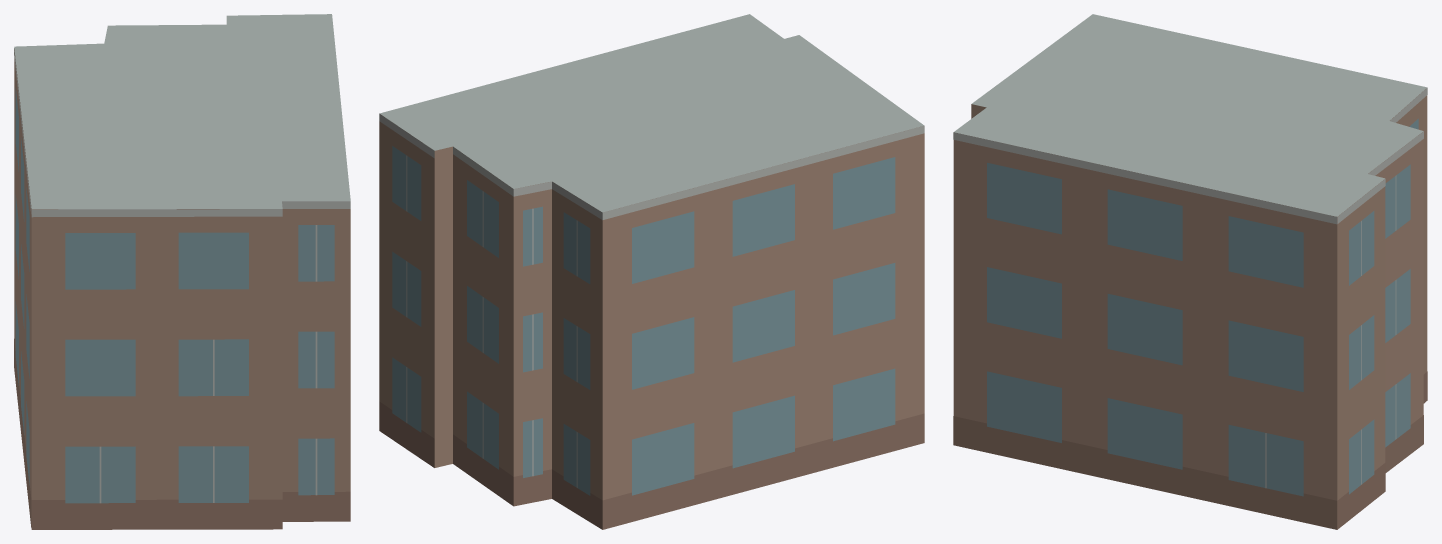
The model's file is survey-upis-32993220.glb.
3 views of the same model, side by side, from view 1: azimuth 30°, elevation 25°; view 2: azimuth 150°, elevation 25°; view 3: azimuth 270°, elevation 25° (orthographic). The views are drawn at different scales.
Parts seen in each view (by area): view 1: survey-upis-32993220.tmp; view 2: survey-upis-32993220.tmp; view 3: survey-upis-32993220.tmp.
Part boxes in pixels (x1=…): survey-upis-32993220.tmp: x1=14, y1=14, x2=350, y2=529; survey-upis-32993220.tmp: x1=379, y1=14, x2=924, y2=529; survey-upis-32993220.tmp: x1=953, y1=14, x2=1427, y2=529.
Size of the model in its own units: 14.05 by 10.1 by 13.87.
